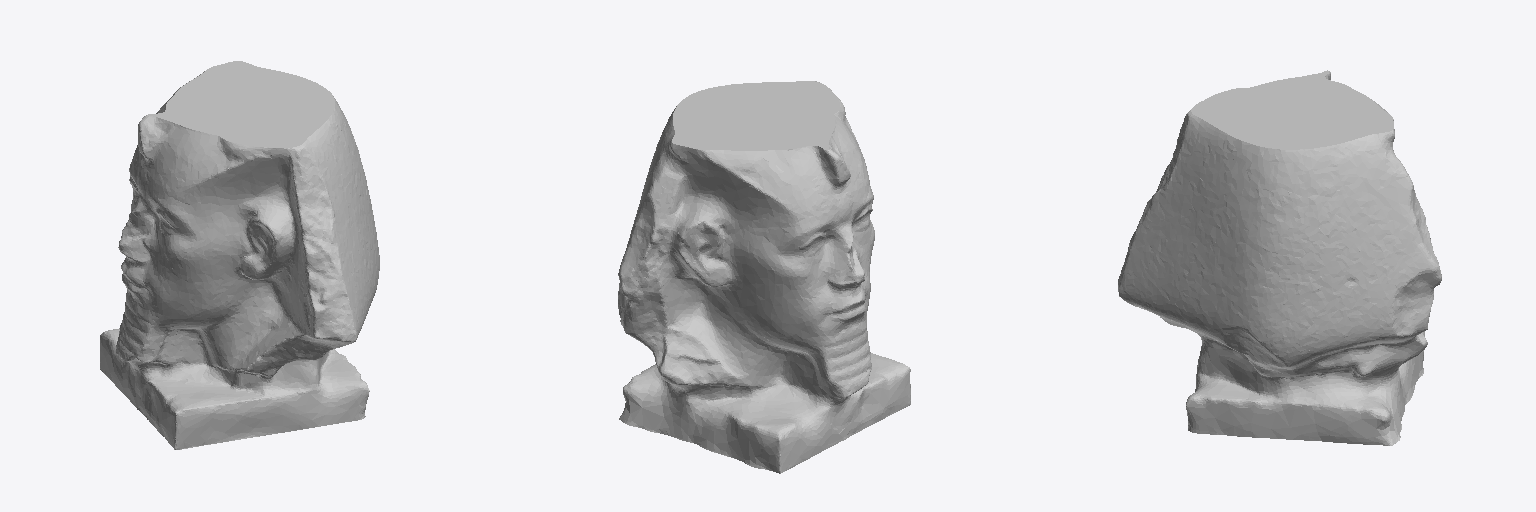
Rendered from Amenemhat_iii.obj.
3 renders of one model, left to right at view 1: azimuth 30°, elevation 25°; view 2: azimuth 150°, elevation 25°; view 3: azimuth 270°, elevation 25°, orthographic.
Visible parts, largest first — view 1: sculpt; view 2: sculpt; view 3: sculpt.
Part boxes in pixels (x1,y1,x2,y2): sculpt: (100,61,379,449); sculpt: (618,81,910,473); sculpt: (1118,70,1441,445).
Bounding box in the file's own units: 1.83 × 2.18 × 2.22.